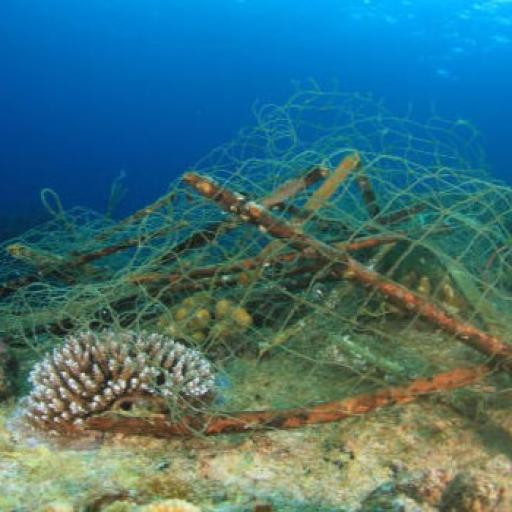net: (0, 79, 512, 462)
